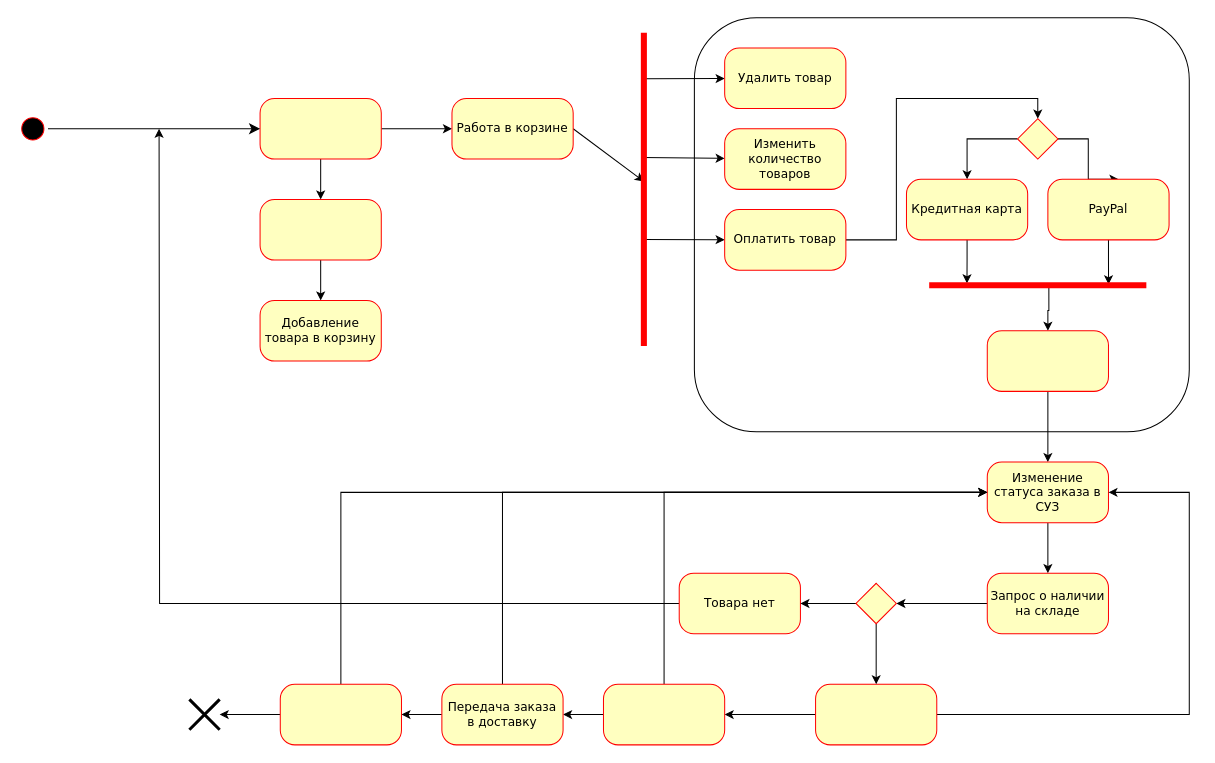
Some shapes in this 1215 by 763 pixel diagram are drawn without their labels. Each missing label, with the centre of its shape:
"Выбор товара в каталоге" belongs at (x=320, y=229).
"Доставка покупателю" belongs at (x=340, y=714).
"Планирование заказа" belongs at (x=320, y=128).
"Подтвердить оплату" belongs at (x=1047, y=360).
"Сборка заказа" belongs at (x=663, y=714).
"Товар есть" belongs at (x=876, y=714).
